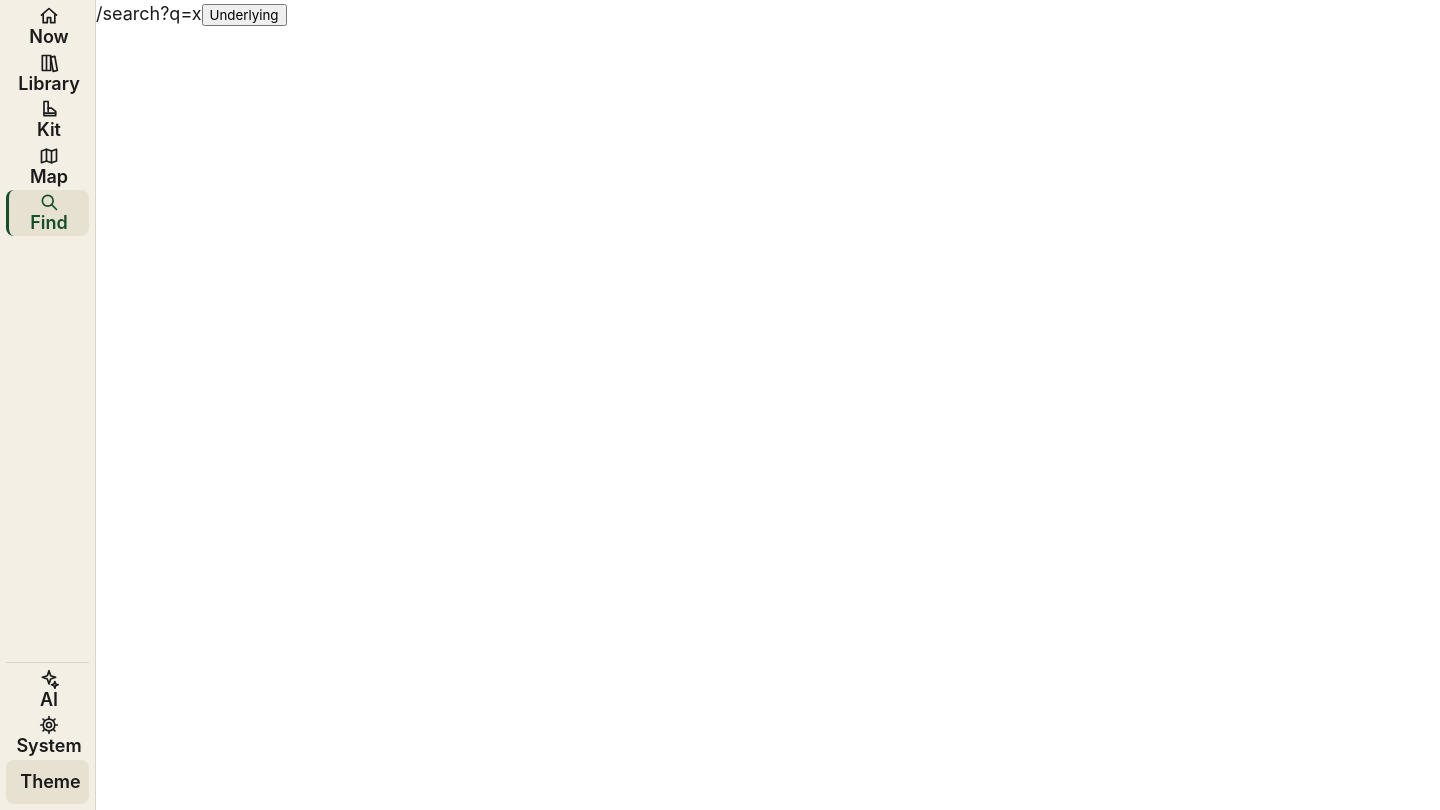
Scenario: IdleOverlay › dims after idle_minutes without pointer events, consumes the first touch, restores the backlight
Step 1. Press the mouse on the element that starts with "Skip to what to do" → (720, 405), box top-left (0, 0), bottom-right (1439, 809)
Wait 300001 ms
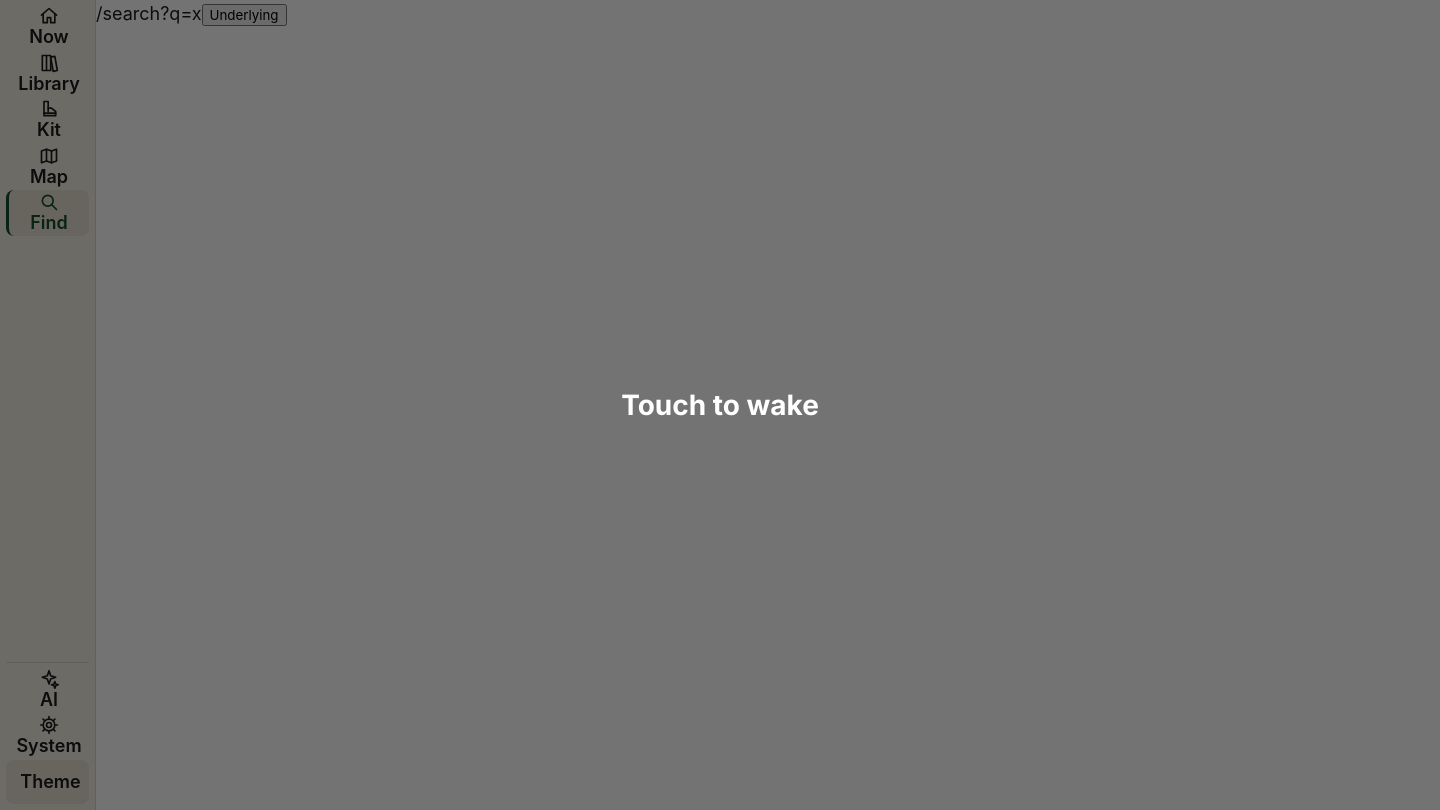
Result: the text "Touch to wake" is shown at top-left (621, 384), bottom-right (819, 426)
Step 2. Click the button "Touch to wake" → (86, 405), box top-left (0, 0), bottom-right (1439, 809)
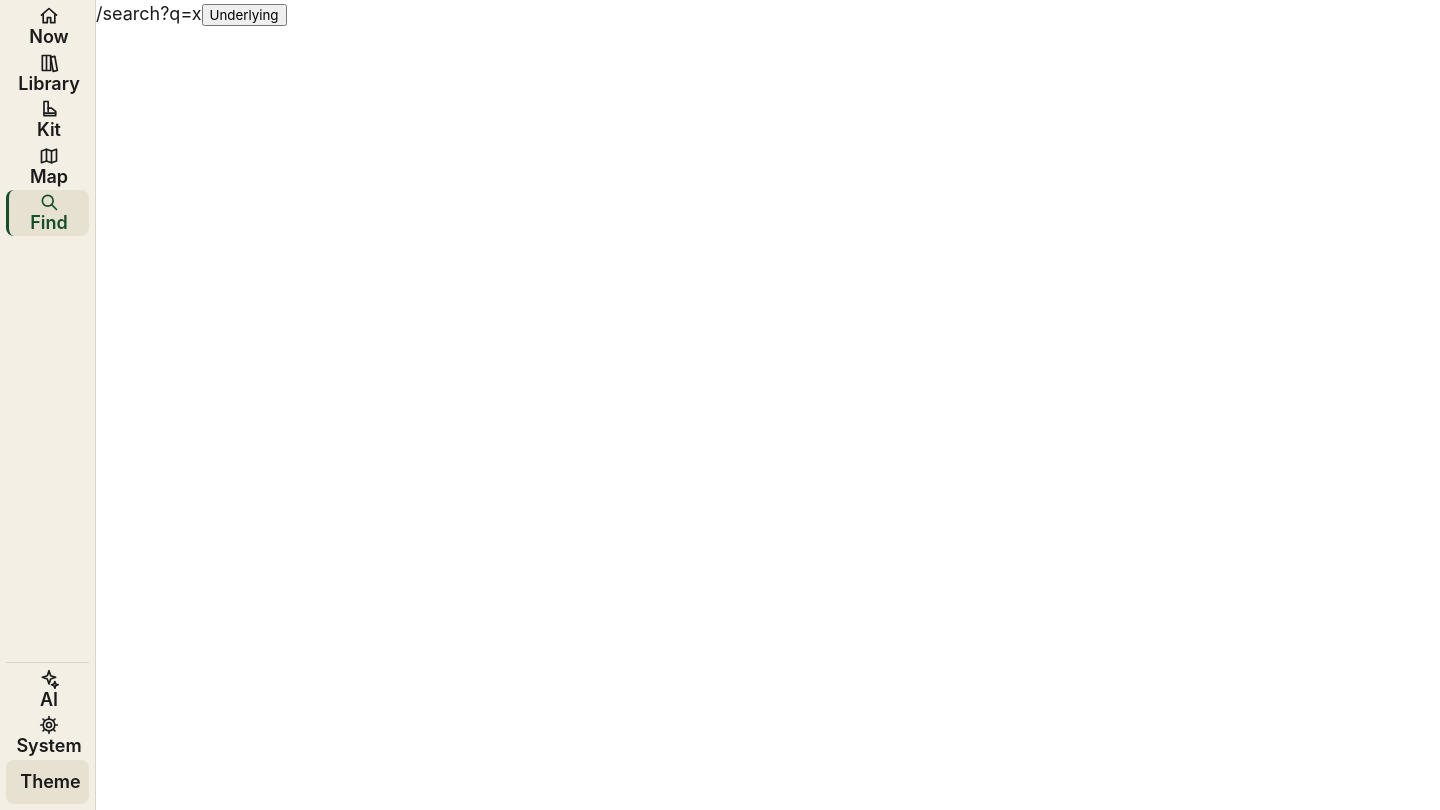
Result: the button "Touch to wake" is gone
